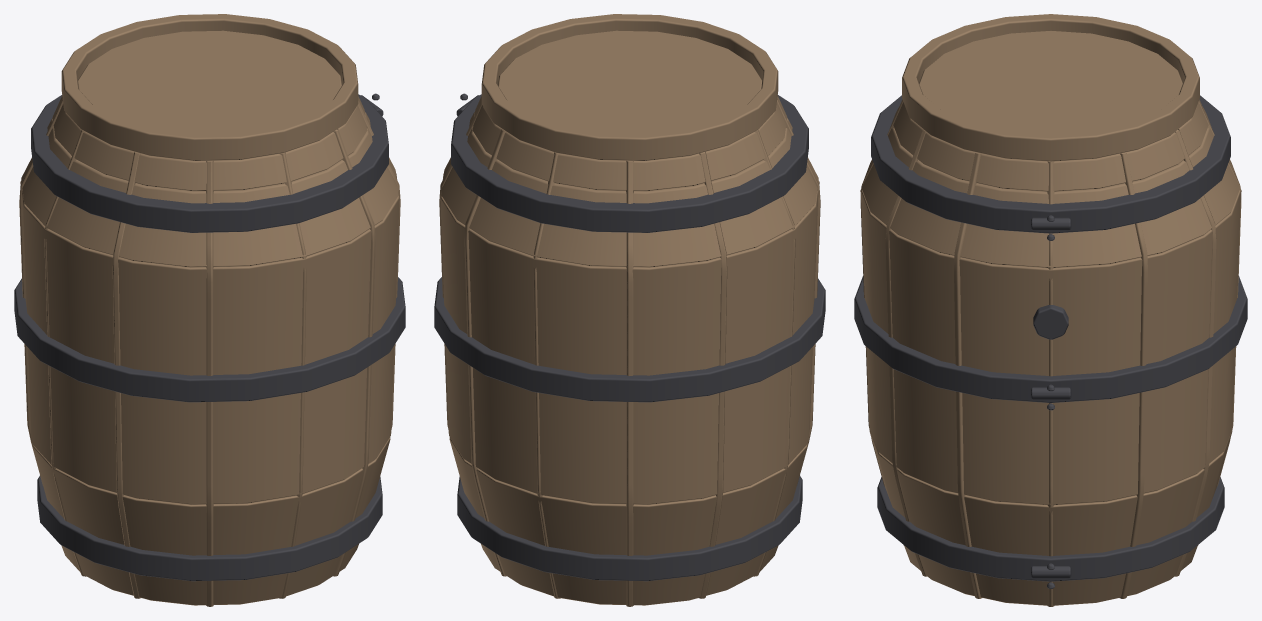
The model's file is barrel.glb.
3 views of the same model, side by side, from view 1: azimuth 30°, elevation 25°; view 2: azimuth 150°, elevation 25°; view 3: azimuth 270°, elevation 25° (orthographic).
Parts seen in each view (by area): view 1: barrel; view 2: barrel; view 3: barrel.
Boxes of the visible parts, <box> form: barrel: <box>14,14,405,606</box>; barrel: <box>434,14,825,606</box>; barrel: <box>854,14,1247,606</box>.
Bounding box in the file's own units: 0.7085 × 0.895 × 0.681.
